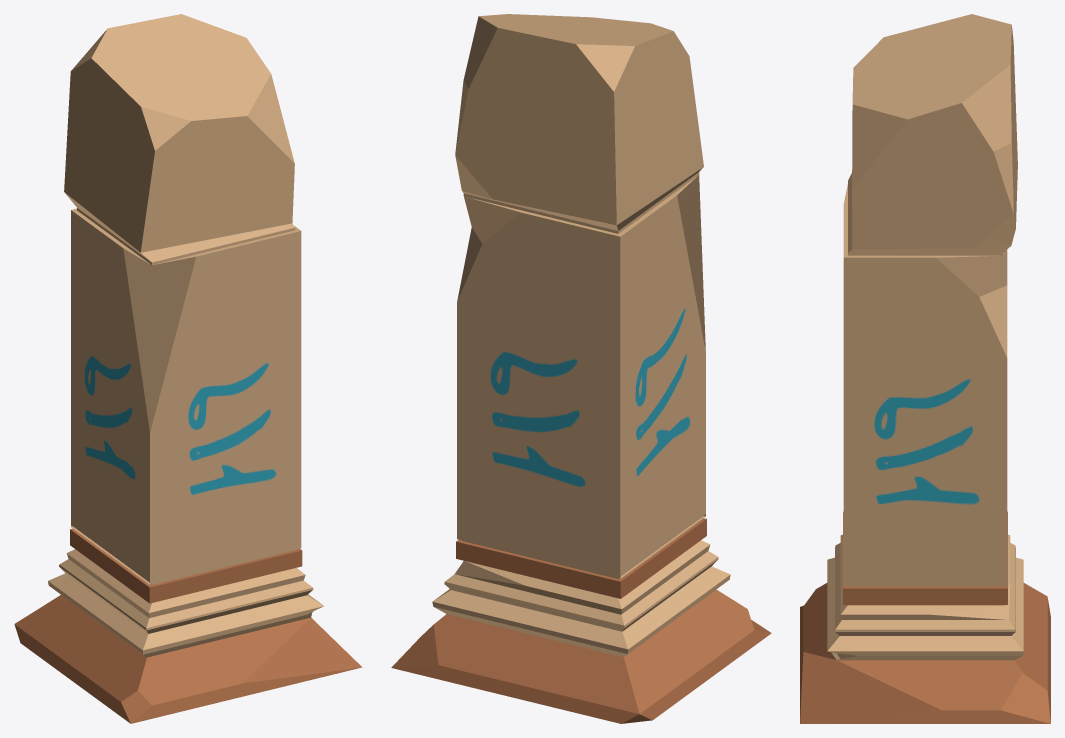
Rendered from sut.fbx.
3 renders of one model, left to right at view 1: azimuth 30°, elevation 25°; view 2: azimuth 150°, elevation 25°; view 3: azimuth 270°, elevation 25°, orthographic. The views are drawn at different scales.
Parts seen in each view (by area): view 1: Cube.007; view 2: Cube.007; view 3: Cube.007.
Part boxes in pixels (<box>): Cube.007: <box>14,14,362,723</box>; Cube.007: <box>391,14,771,723</box>; Cube.007: <box>800,14,1050,723</box>.
Bounding box in the file's own units: 696 × 1725 × 630.
